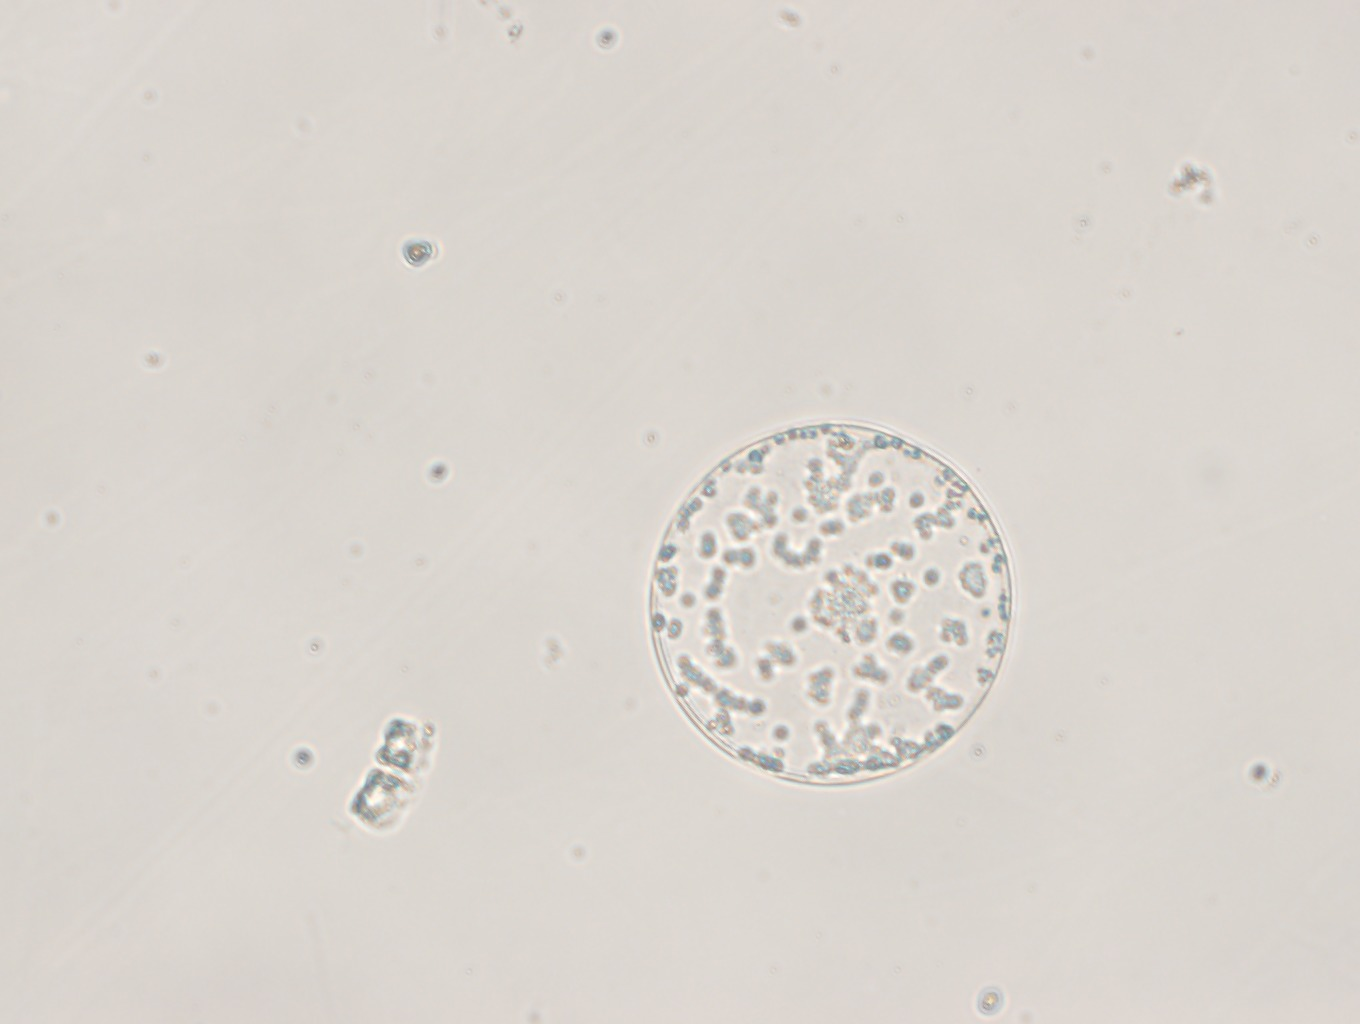coscinodiscus: (640, 416, 1022, 792)
